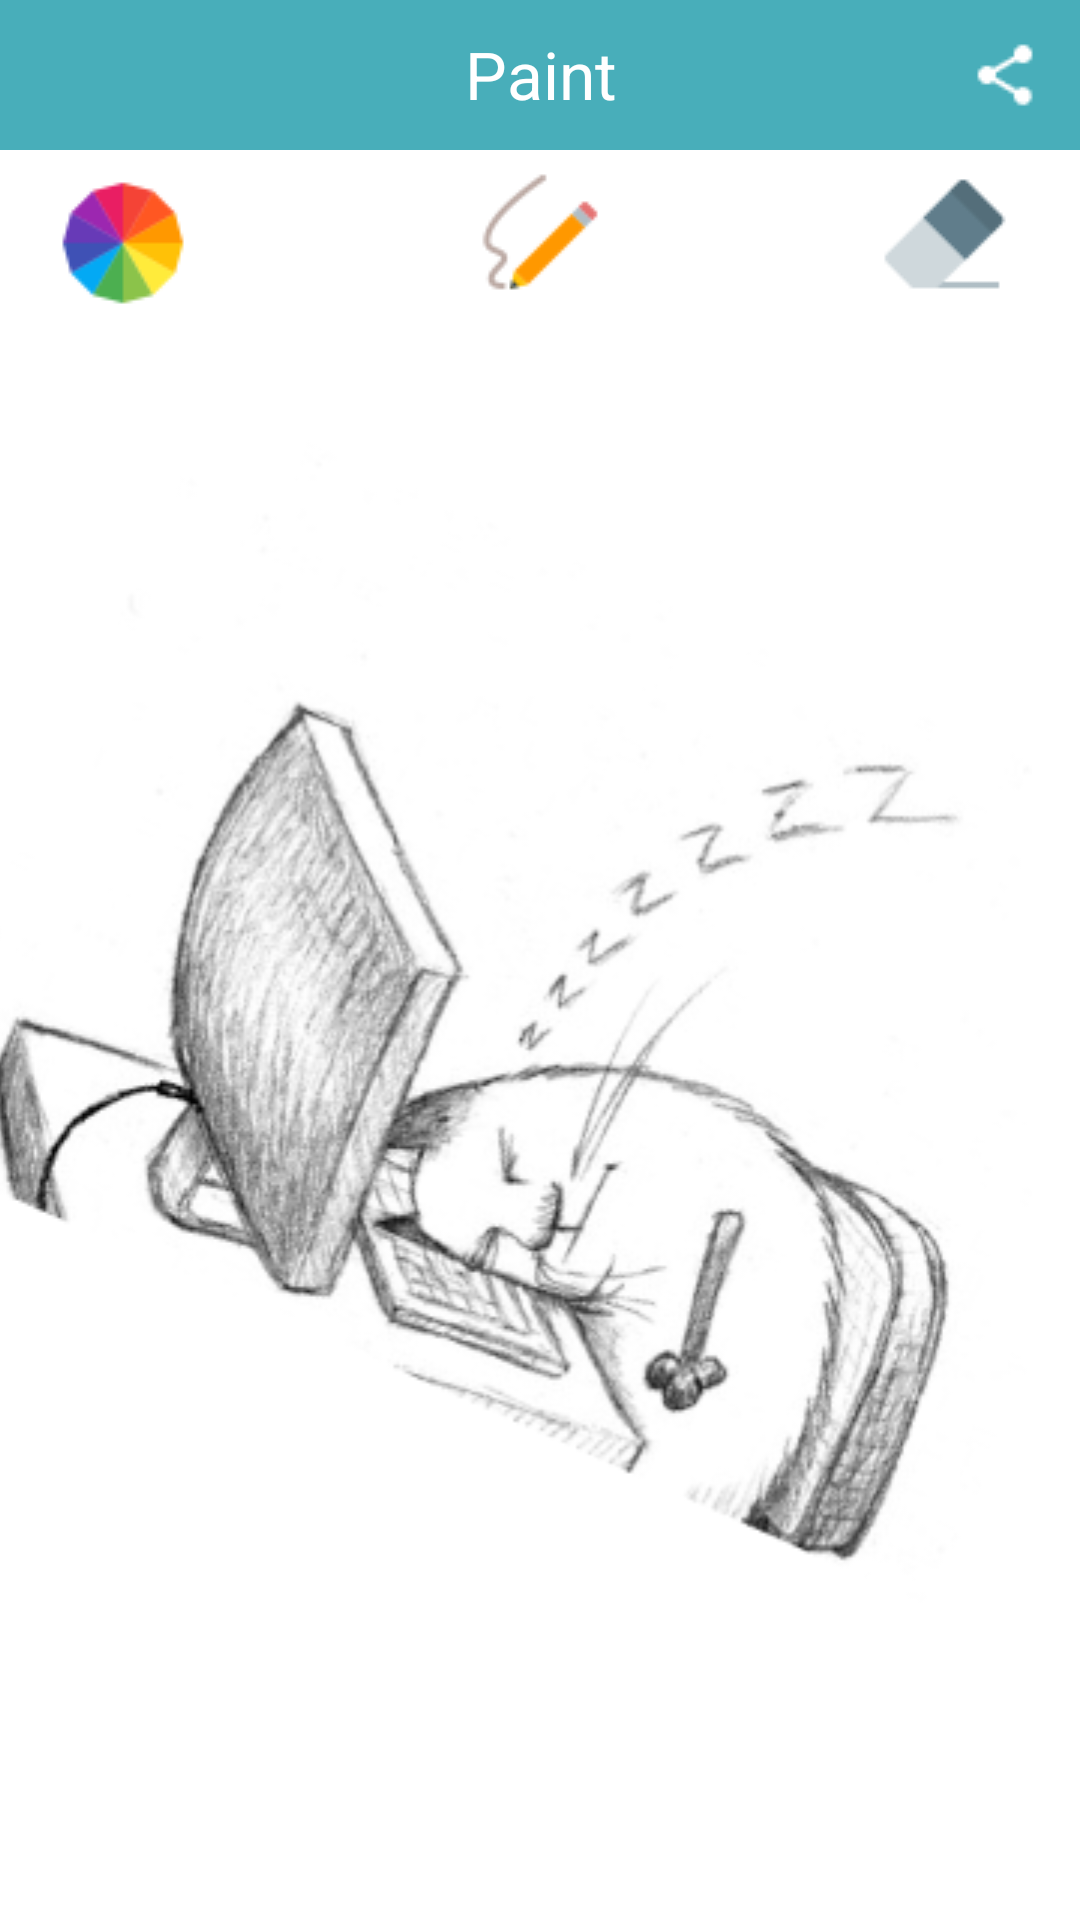

Point at icon controls on the screen. Image size 1080px x 1920px, points as (x=x, y=y).
krug: (x=123, y=243)
pen: (x=540, y=232)
rubber: (x=945, y=234)
share: (x=1005, y=75)
